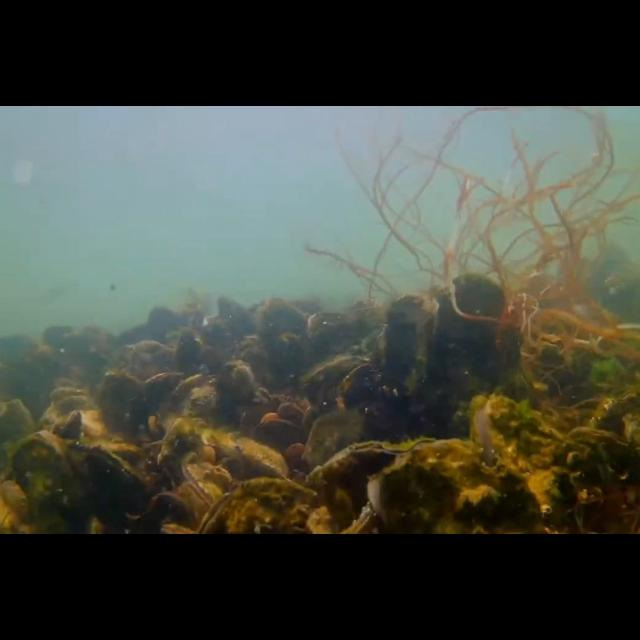Oyster-Closed: (304, 437, 436, 535), (554, 428, 640, 534), (72, 445, 158, 535), (156, 416, 210, 492), (181, 465, 225, 535), (56, 411, 84, 442)
Oyster-Indeterminate: (370, 441, 548, 535), (434, 272, 522, 401), (10, 432, 80, 534), (383, 294, 441, 401), (302, 412, 368, 480), (100, 371, 148, 445), (0, 400, 38, 474), (234, 438, 292, 482)
Oyster-Open: (469, 395, 568, 535), (302, 356, 378, 414), (167, 374, 219, 418)
